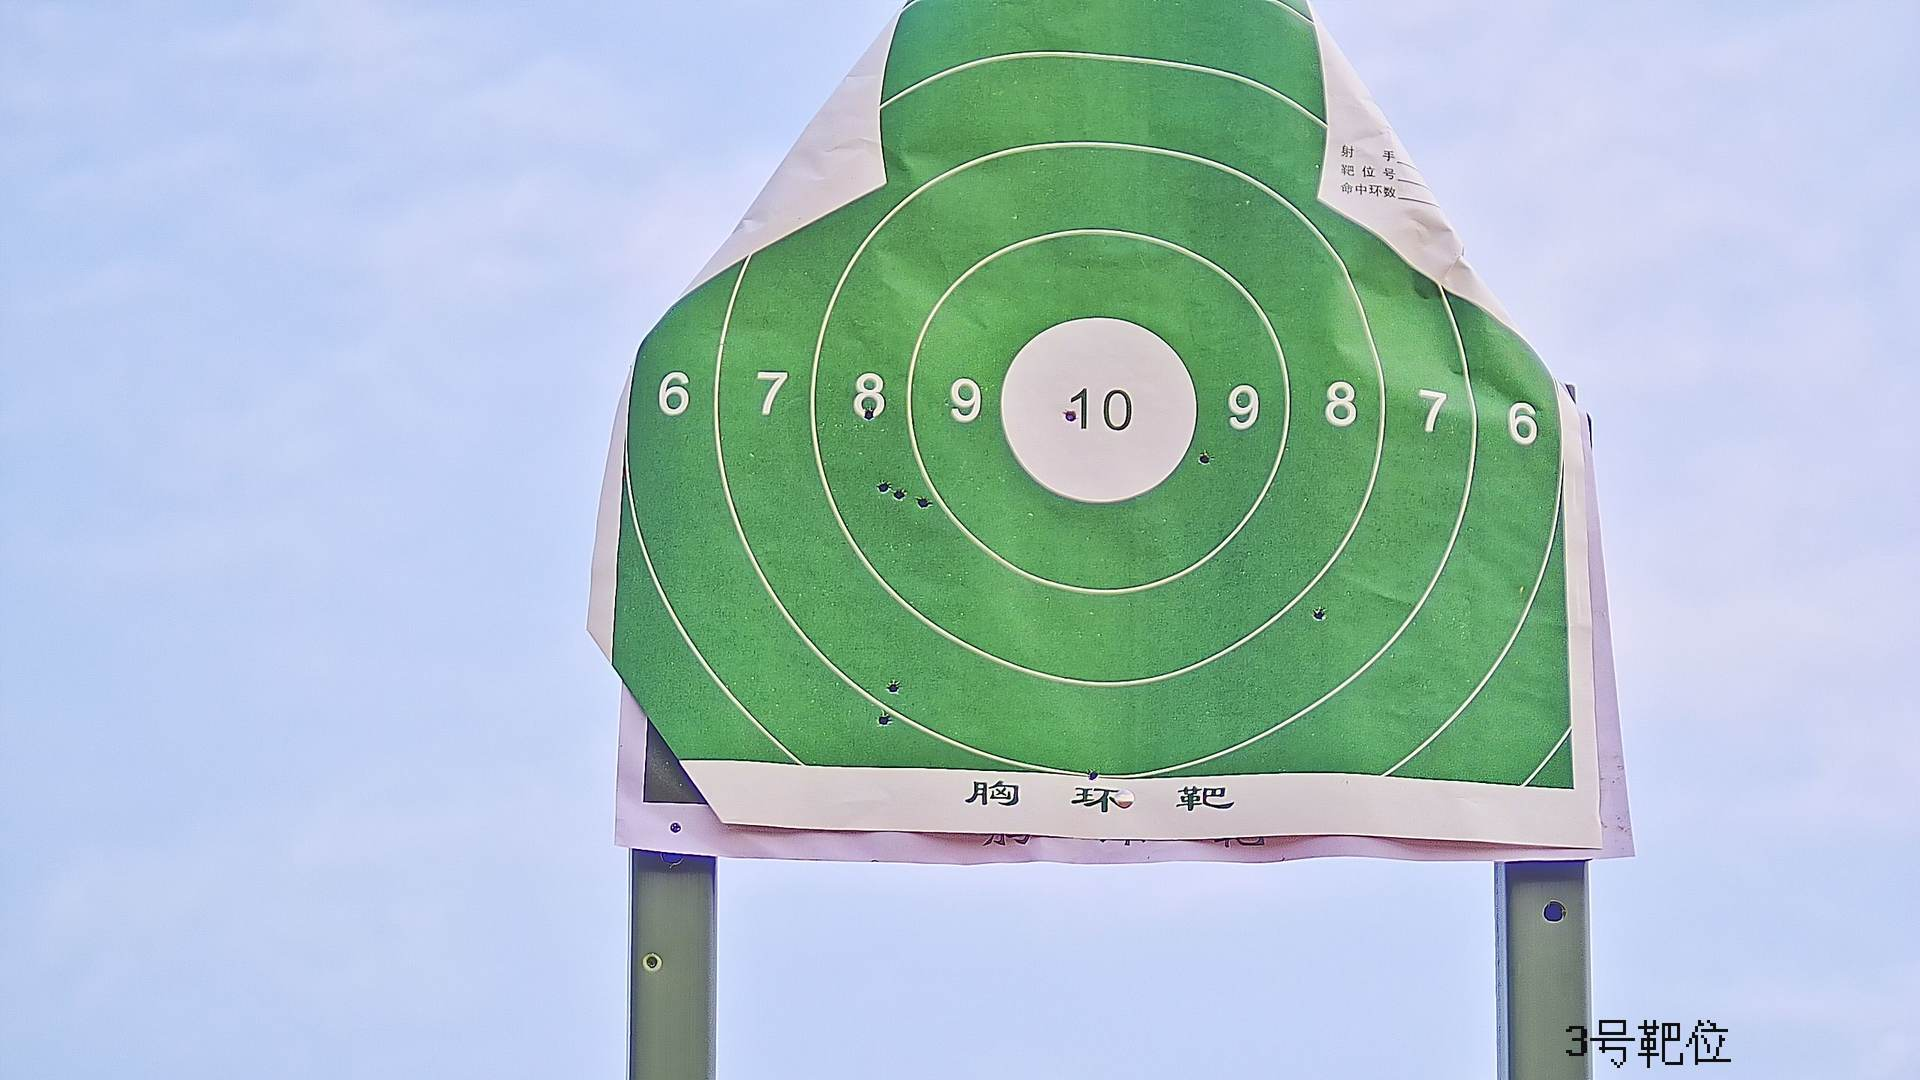hole: (861, 404, 876, 419), (1063, 409, 1077, 425), (1312, 607, 1327, 622), (1195, 451, 1209, 465), (876, 713, 893, 725), (916, 496, 930, 510), (886, 679, 899, 694), (1087, 767, 1098, 781), (876, 481, 889, 492), (893, 488, 905, 498)
kernel: (1095, 409, 1098, 413)
target: (605, 5, 1575, 795)
ten: (996, 316, 1197, 504)
